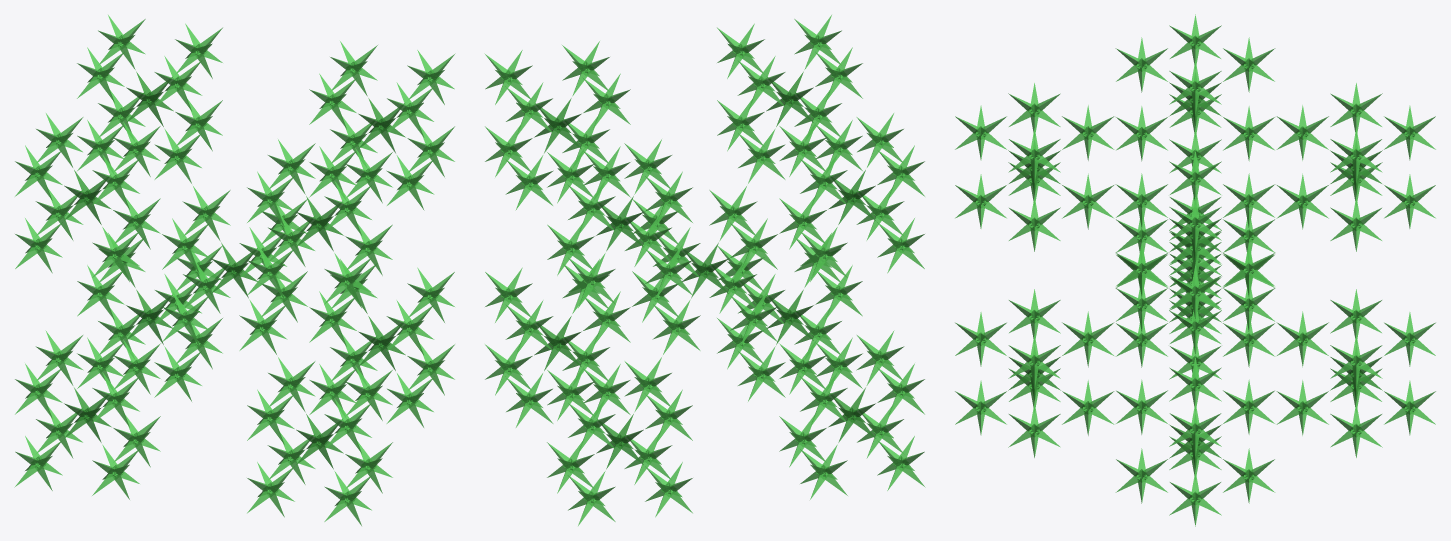
File: fractalgreattriakisoctahedron2.glb
3 views of the same model, side by side, from view 1: azimuth 30°, elevation 25°; view 2: azimuth 150°, elevation 25°; view 3: azimuth 270°, elevation 25° (orthographic). The views are drawn at different scales.
Bounding box in the file's own units: 10.17 × 7.19 × 10.17.
